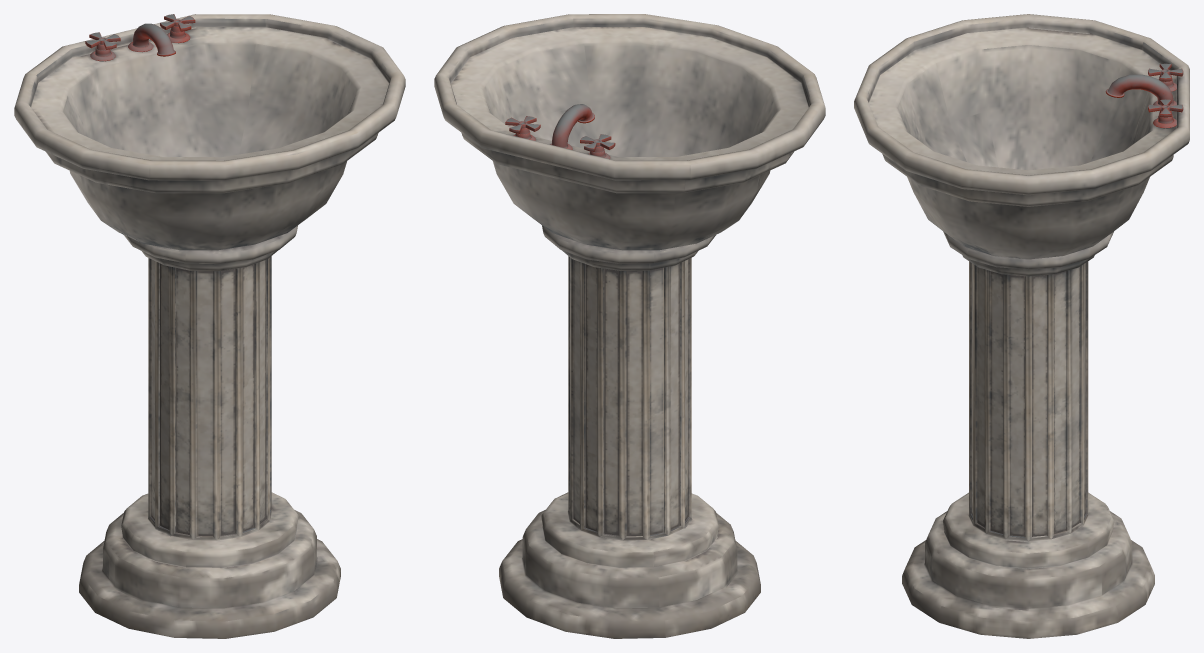
The model's file is Pia_Banheiro_Delegacia.fbx.
3 renders of one model, left to right at view 1: azimuth 30°, elevation 25°; view 2: azimuth 150°, elevation 25°; view 3: azimuth 270°, elevation 25°, orthographic.
Visible parts, largest first — view 1: Pia, Torneira, Registro_1, Registro_2; view 2: Pia, Torneira; view 3: Pia, Torneira, Registro_2, Registro_1.
Boxes of the visible parts, x1,y1,x2,y2 form: Pia: (14, 14, 405, 638); Torneira: (128, 23, 175, 56); Registro_1: (85, 32, 120, 61); Registro_2: (160, 14, 195, 43); Pia: (434, 14, 825, 638); Torneira: (550, 104, 594, 149); Pia: (854, 14, 1189, 638); Torneira: (1105, 74, 1176, 106); Registro_2: (1148, 99, 1183, 128); Registro_1: (1148, 63, 1183, 91).
Size of the model in its own units: 79.23 by 112 by 66.93.
